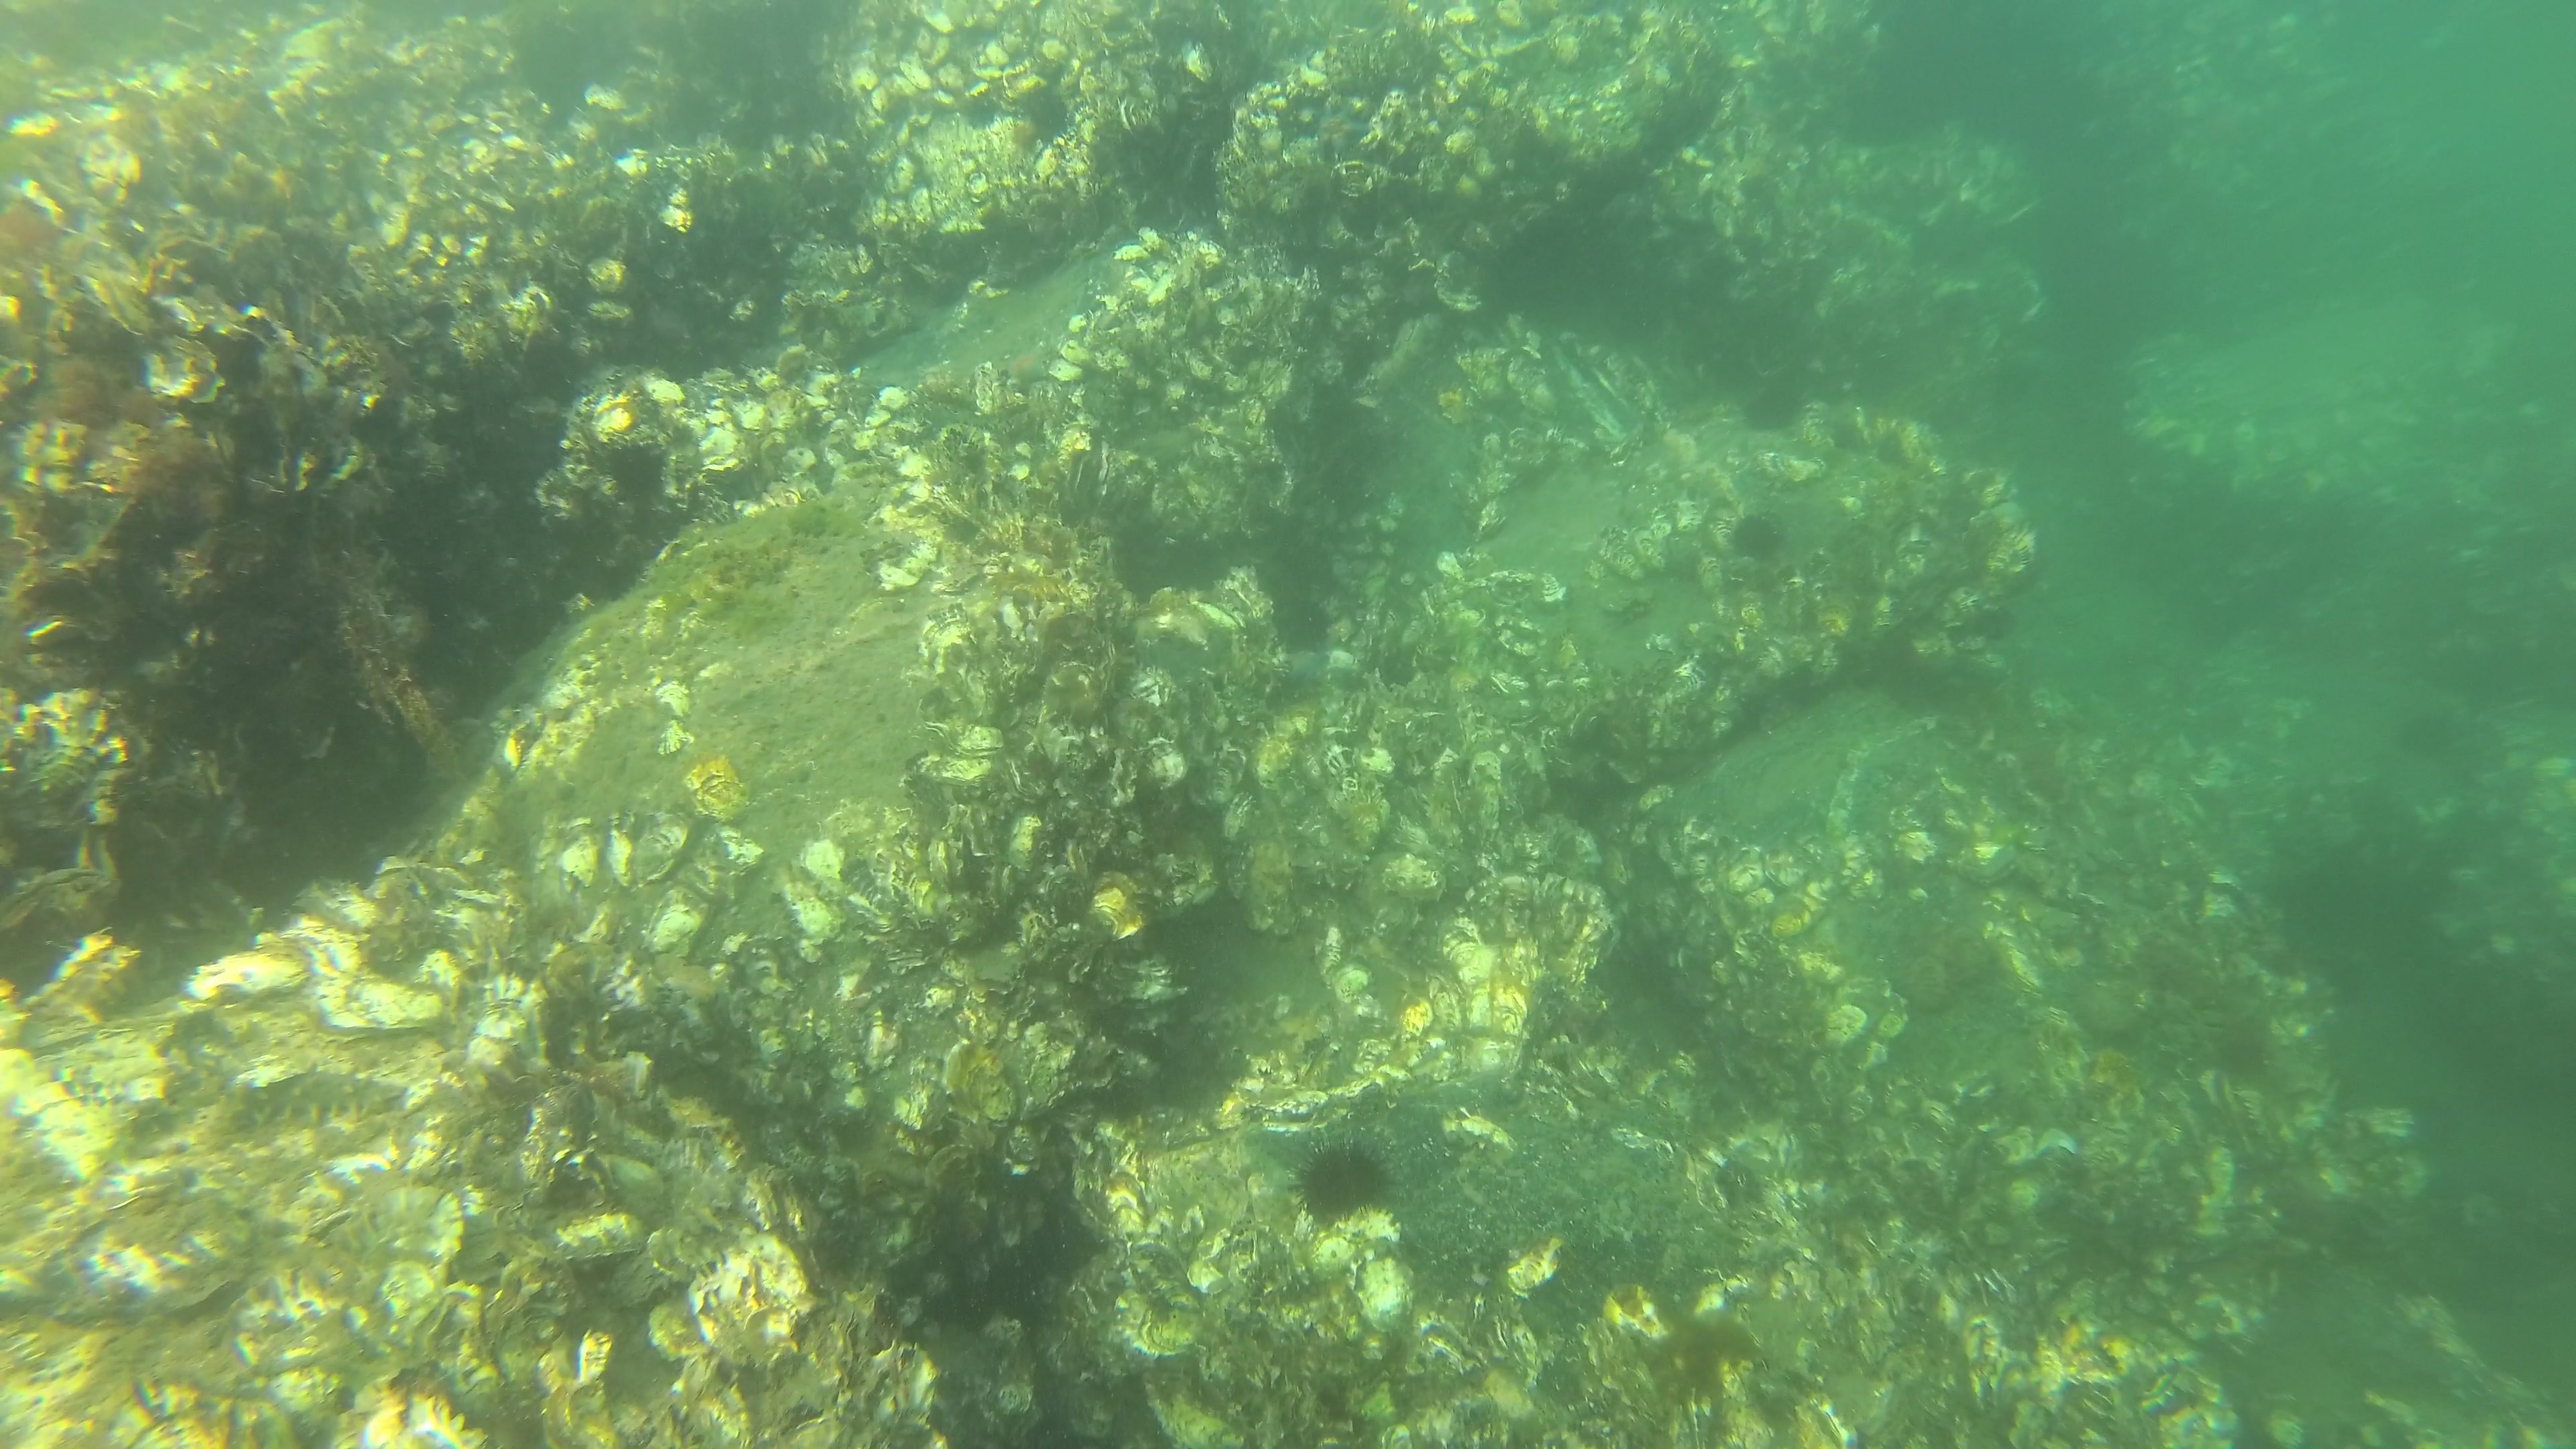echinus: (1292, 1131, 1389, 1226), (1739, 375, 1806, 433), (1723, 508, 1787, 566), (609, 441, 663, 499), (1021, 83, 1076, 134), (961, 81, 1001, 131)
